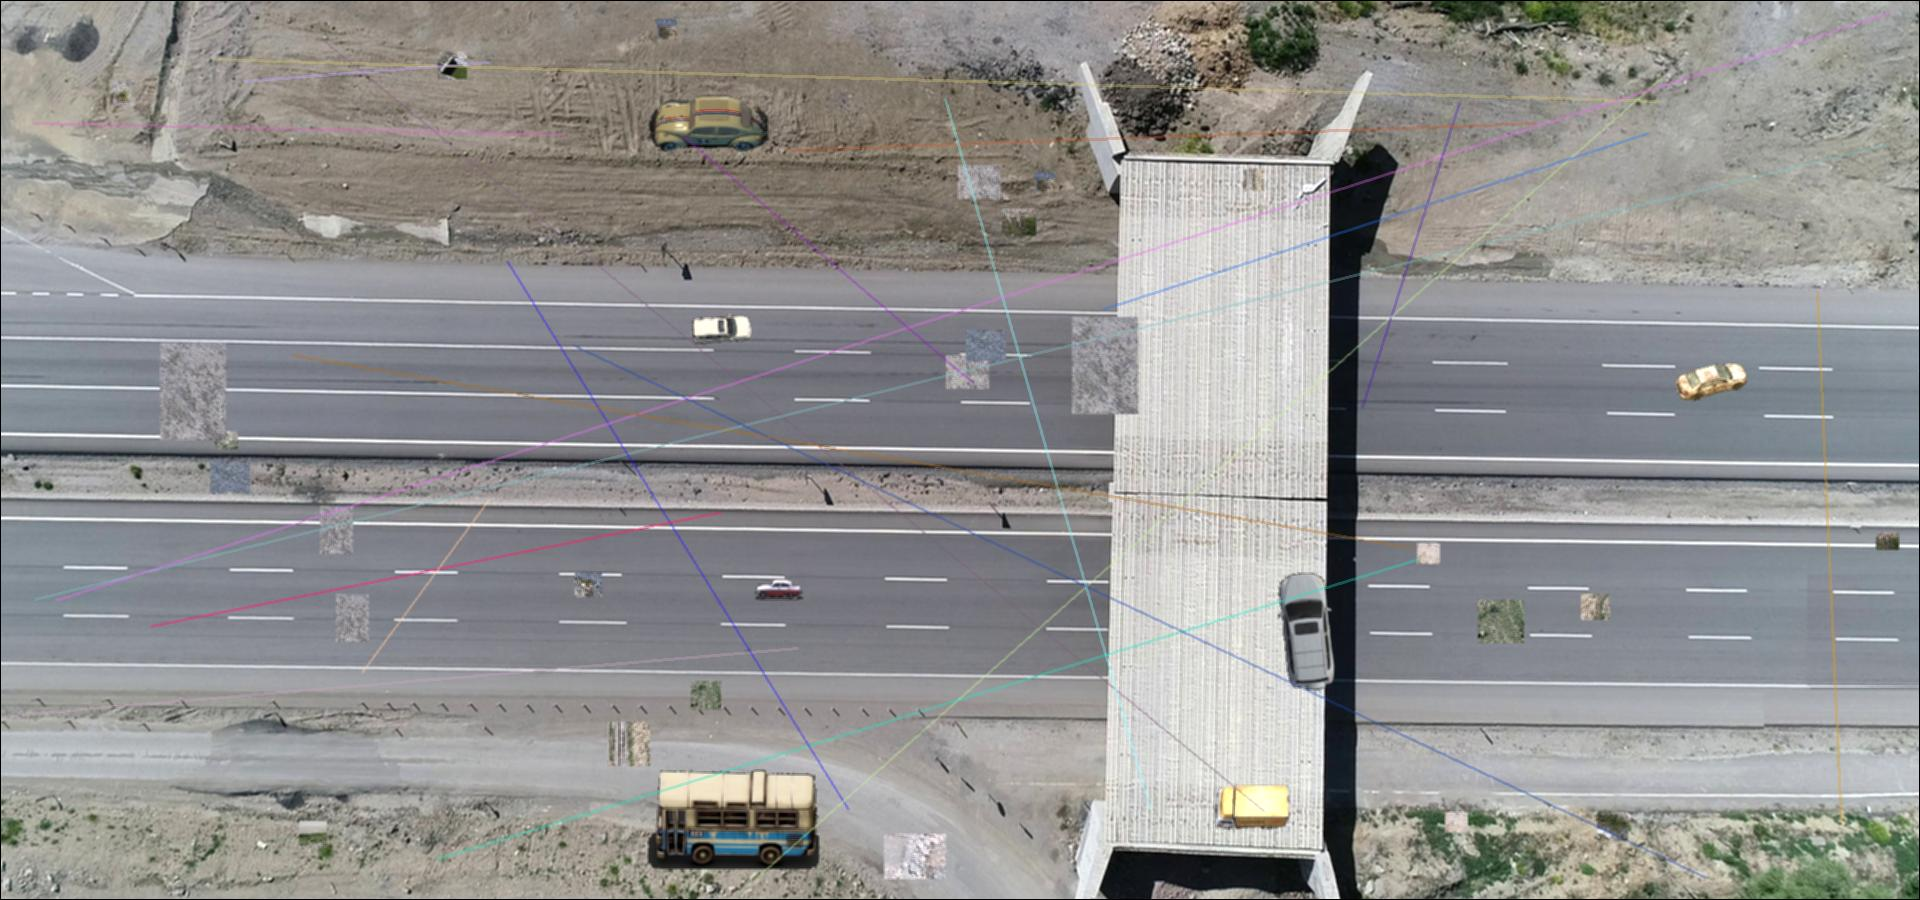arac: (647, 767, 819, 869), (1272, 573, 1338, 693), (648, 94, 768, 153), (1215, 784, 1291, 831), (1674, 362, 1747, 402), (691, 313, 753, 345), (756, 580, 803, 601)
